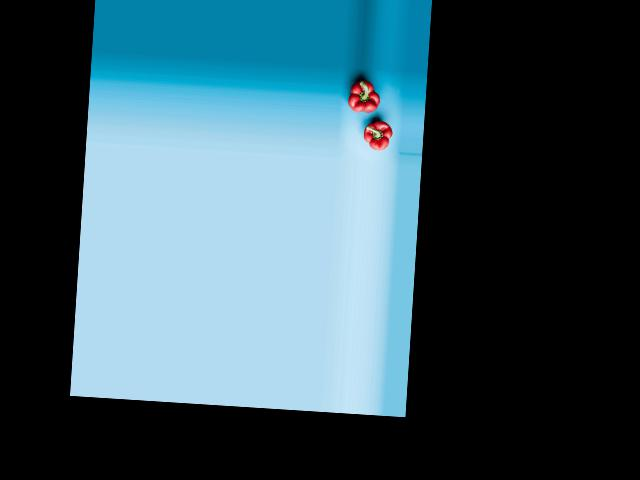bell_pepper: (347, 75, 385, 120)
